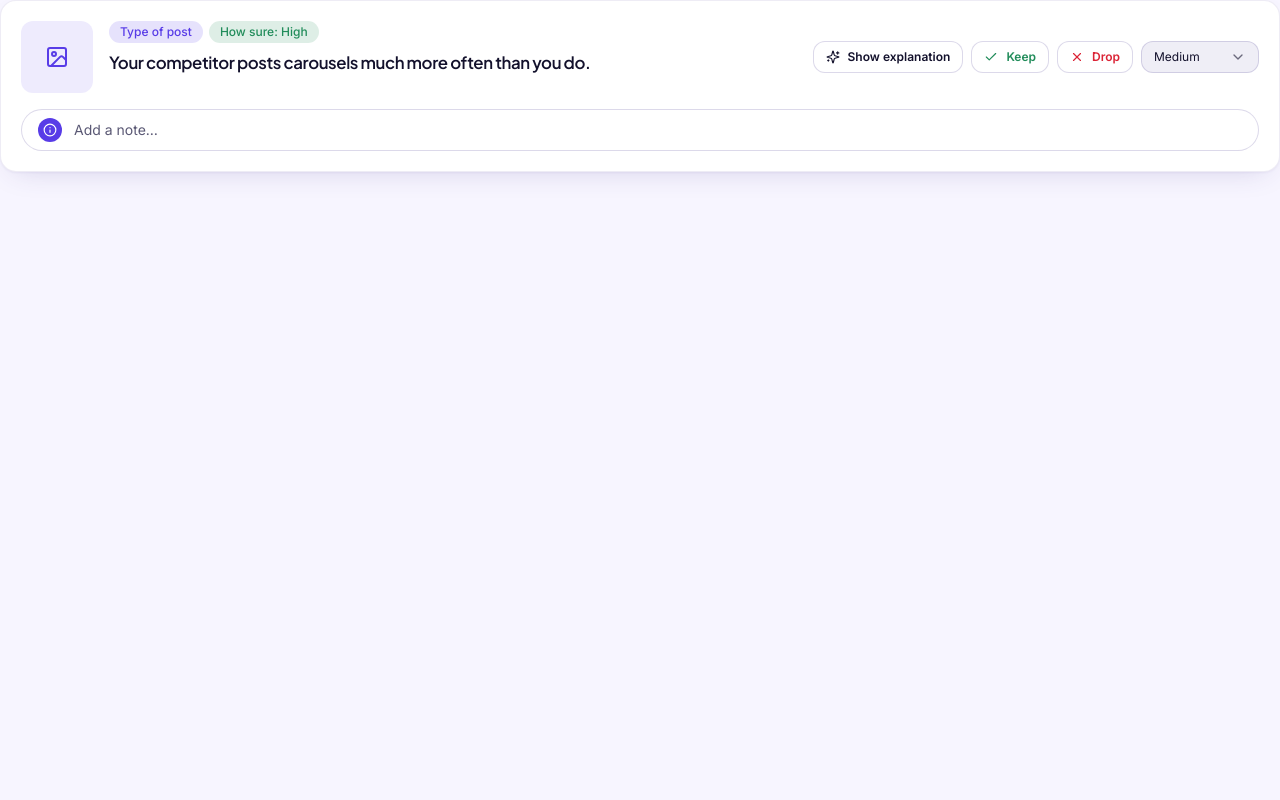
it: GapCard in plain words › closes the explanation after reading, and opens it again
Click the button "Show explanation": [888, 57] box x1=812 y1=41 x2=963 y2=73
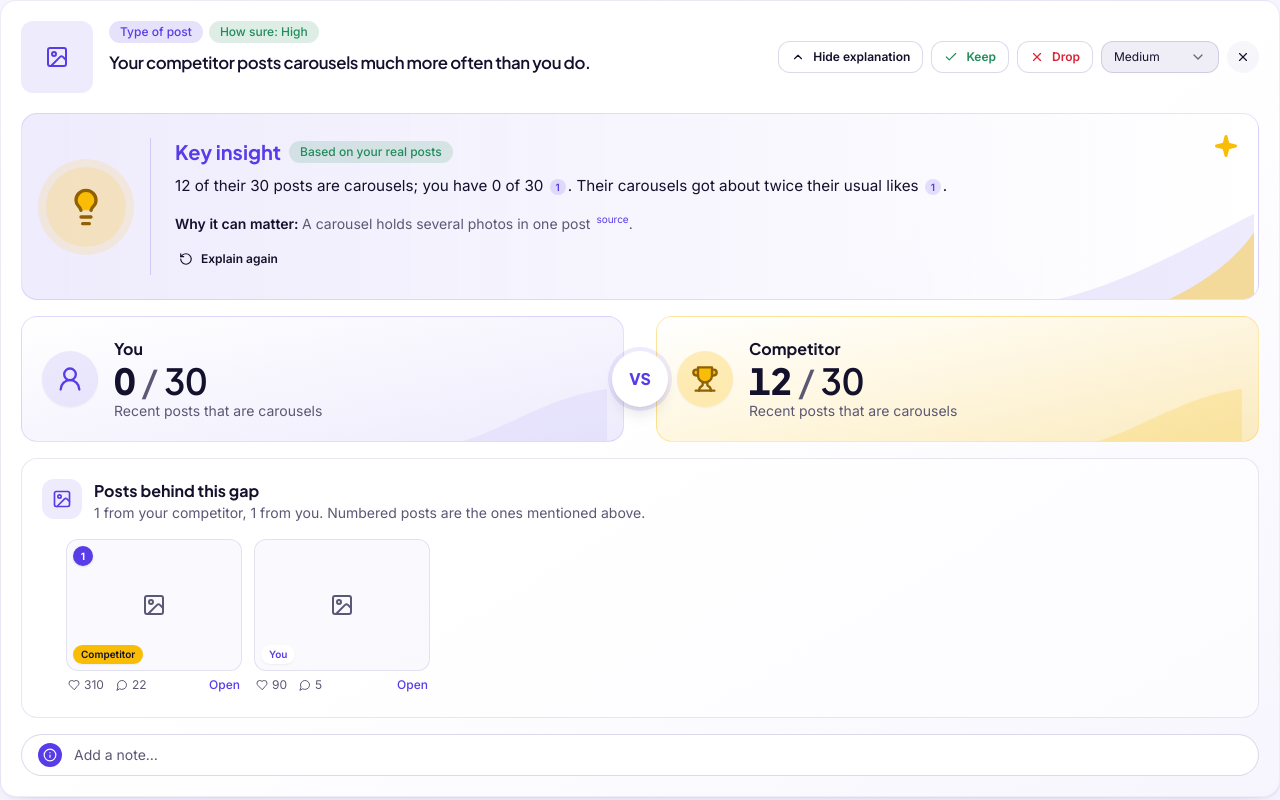
Expected: the text "Key insight" is shown, x1=175 y1=138 x2=281 y2=166
Click the button named "close explanation": [1243, 57] box x1=1227 y1=41 x2=1259 y2=73
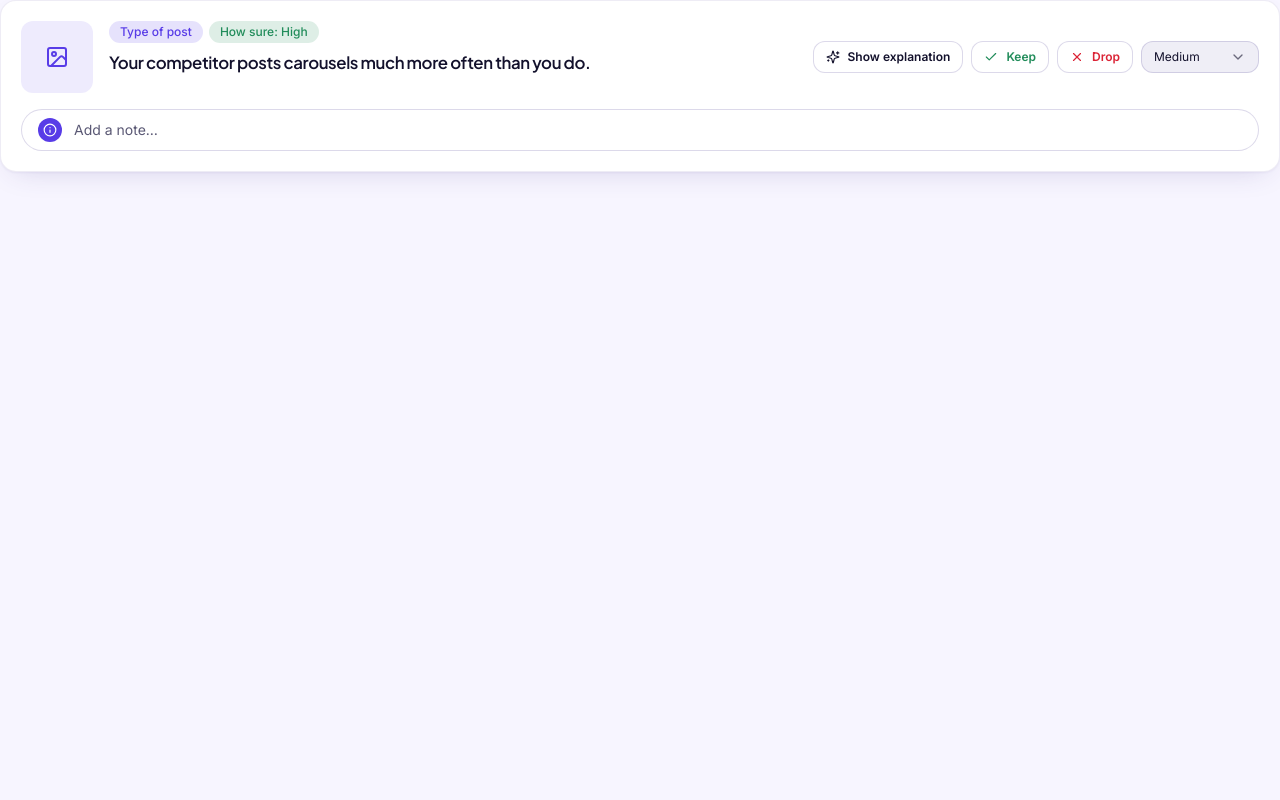
Expected: the text "Key insight" is gone
Click the button "Show explanation": [888, 57] box x1=812 y1=41 x2=963 y2=73
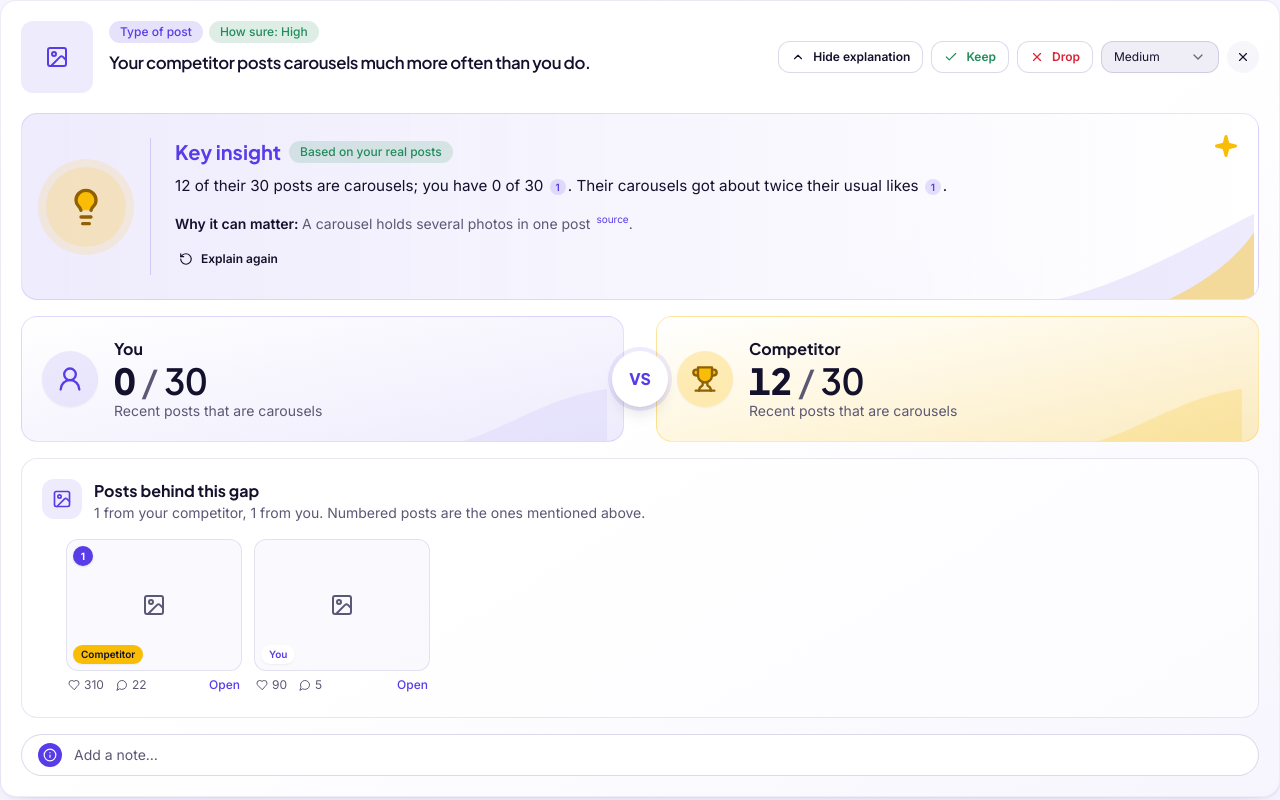
Click the button "Hide explanation": [851, 57] box x1=778 y1=41 x2=923 y2=73
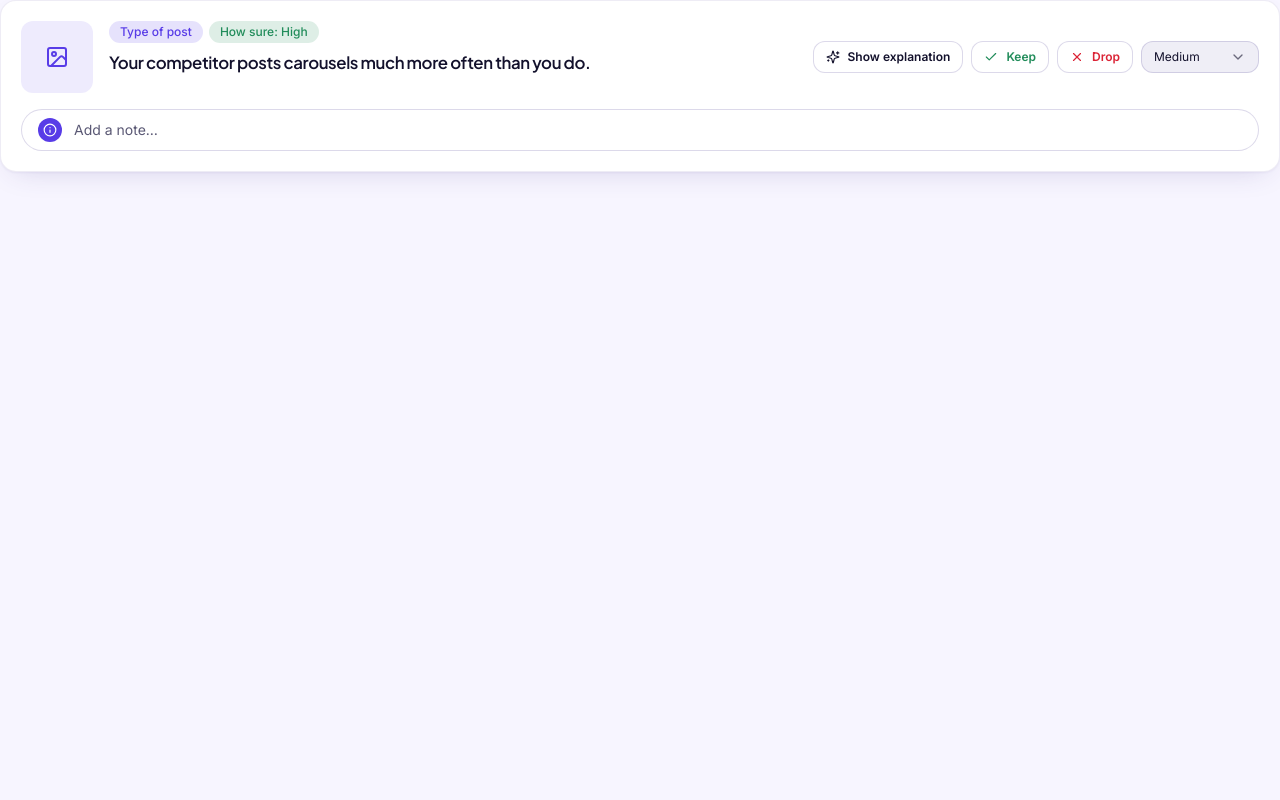
Expected: the text "Key insight" is gone
